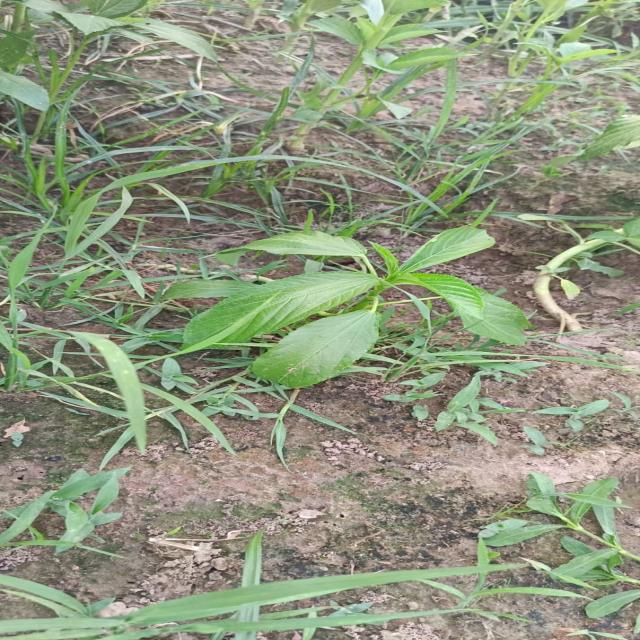plant: (162, 226, 527, 388)
